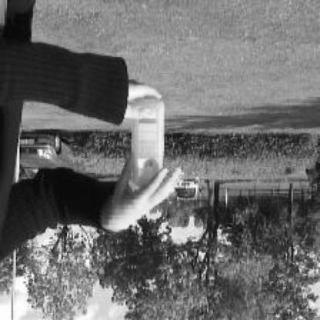other: (120, 88, 183, 190)
